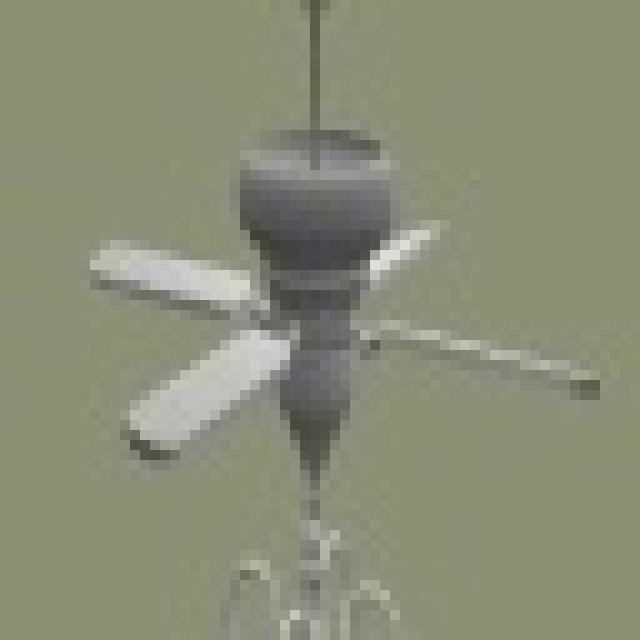Bulb: (67, 204, 633, 519)
